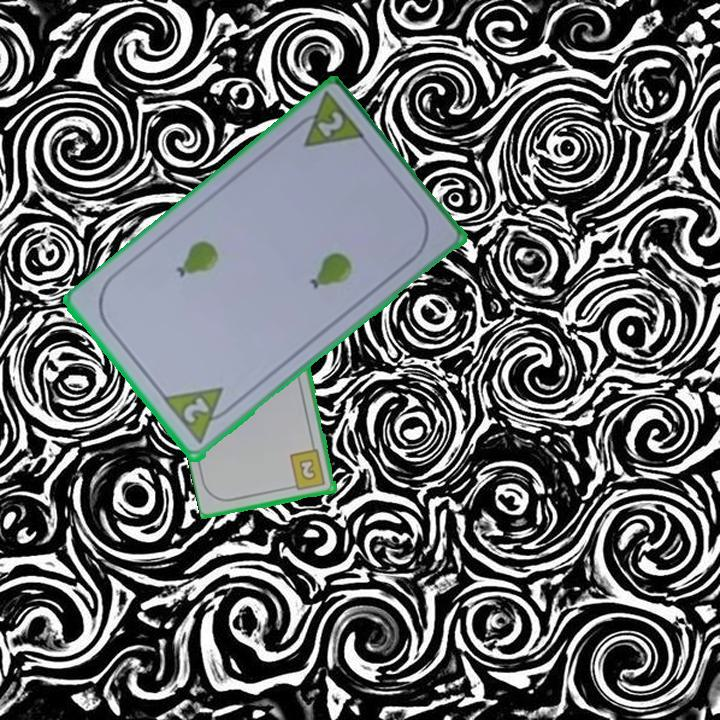2b: (287, 446, 328, 493)
2p: (160, 383, 239, 449), (286, 90, 369, 151)
